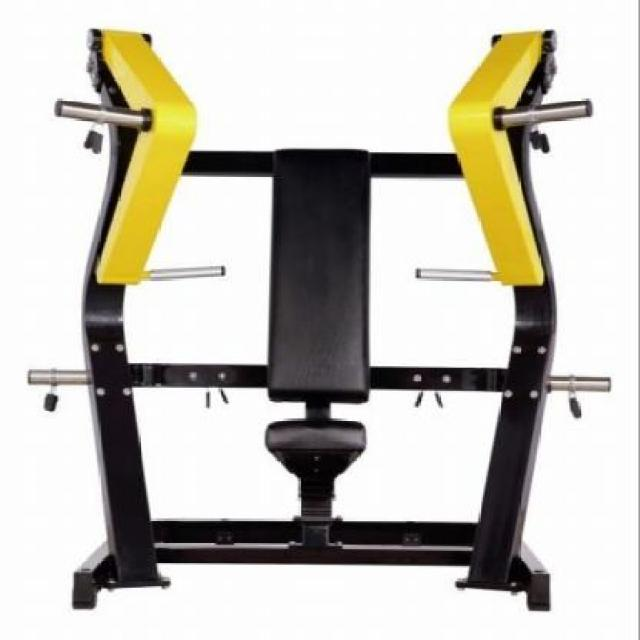Chest Press machine: (25, 18, 617, 620)
